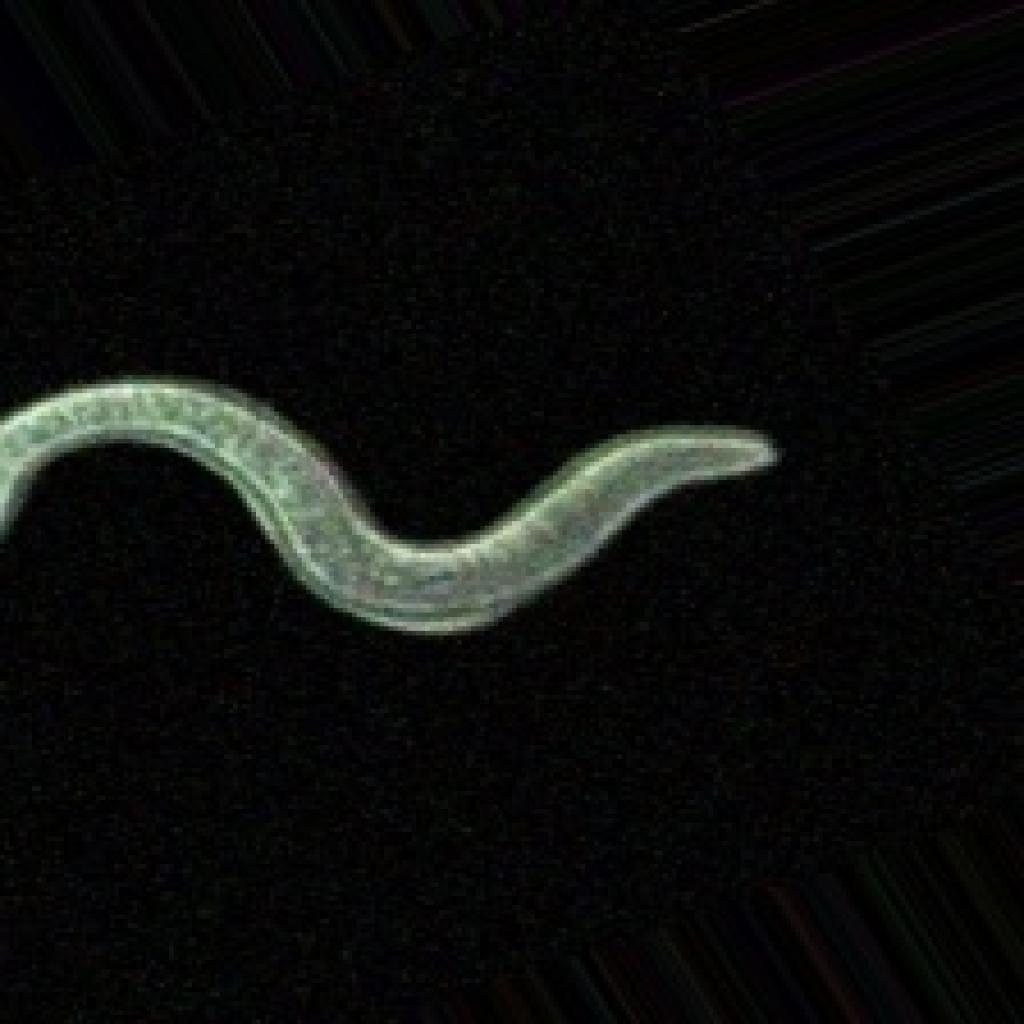Nematode: (0, 0, 1019, 1019), (0, 366, 782, 644)
